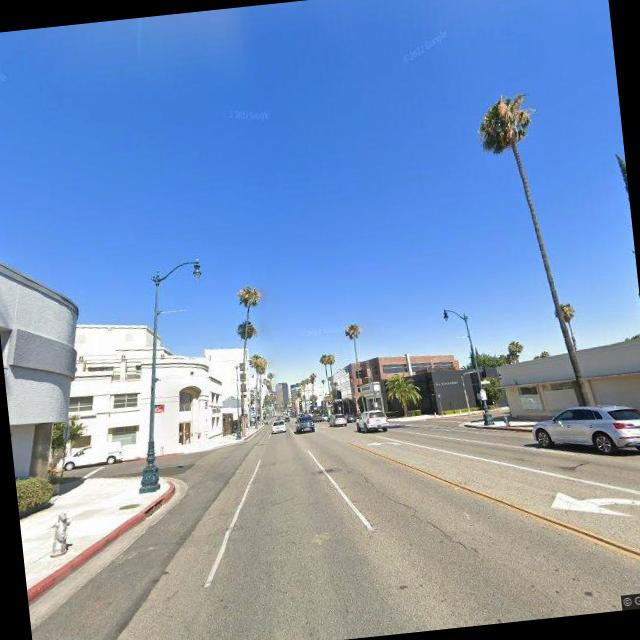crack: (355, 462, 476, 562)
